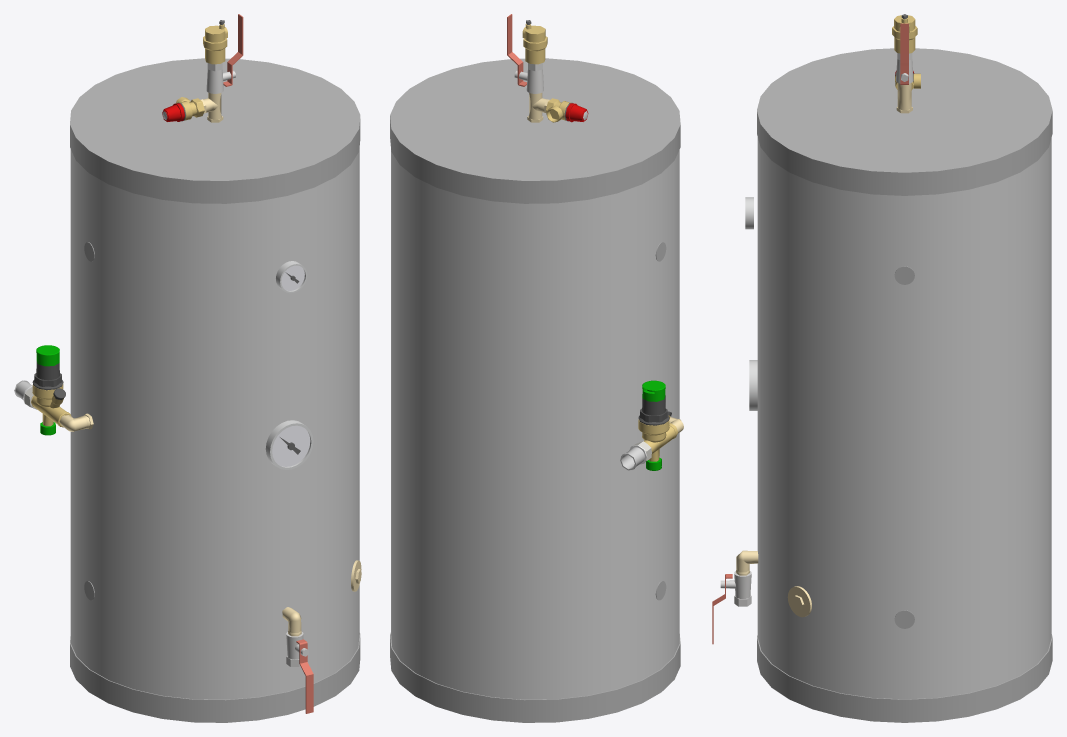
File: inercia.glb
3 renders of one model, left to right at view 1: azimuth 30°, elevation 25°; view 2: azimuth 150°, elevation 25°; view 3: azimuth 270°, elevation 25°, orthographic.
Visible parts, largest first — view 1: DI-GH-DPI_DI_BC_25_300_V-R24 [10537342], VL-Válvula_Llenado_Automatico_MM-R24 [10537478], SN-Termómetro-Posterior-M-R24 [10537470], VL-Válvula_Esfera_Palanca_MH-R24 [10537488], VL-Válvula_Esfera_Palanca_MH-R24 [10537479], AV-Purgador_Automatico_M-R24 [10537480], SN-Manómetro-Posterior-M-R24 [10537471], VL-Válvula_Seguridad_1_2-R24 [10537485]; view 2: DI-GH-DPI_DI_BC_25_300_V-R24 [10537342], VL-Válvula_Llenado_Automatico_MM-R24 [10537478], VL-Válvula_Esfera_Palanca_MH-R24 [10537479], AV-Purgador_Automatico_M-R24 [10537480], VL-Válvula_Seguridad_1_2-R24 [10537485], TR-Racor_Movil_Multicapa-R24 [10537493]; view 3: DI-GH-DPI_DI_BC_25_300_V-R24 [10537342], VL-Válvula_Esfera_Palanca_MH-R24 [10537488], VL-Válvula_Esfera_Palanca_MH-R24 [10537479], AV-Purgador_Automatico_M-R24 [10537480], TP-Tapón_Latón_Rosca_M-R24 [10537472].
Part boxes in pixels (left/top/right/bottom): DI-GH-DPI_DI_BC_25_300_V-R24 [10537342]: left=70, top=58, right=360, bottom=722; VL-Válvula_Llenado_Automatico_MM-R24 [10537478]: left=31, top=345, right=71, bottom=435; SN-Termómetro-Posterior-M-R24 [10537470]: left=265, top=420, right=313, bottom=469; VL-Válvula_Esfera_Palanca_MH-R24 [10537488]: left=286, top=632, right=313, bottom=713; VL-Válvula_Esfera_Palanca_MH-R24 [10537479]: left=206, top=14, right=243, bottom=93; AV-Purgador_Automatico_M-R24 [10537480]: left=203, top=20, right=227, bottom=64; SN-Manómetro-Posterior-M-R24 [10537471]: left=276, top=261, right=307, bottom=293; VL-Válvula_Seguridad_1_2-R24 [10537485]: left=162, top=97, right=204, bottom=121; DI-GH-DPI_DI_BC_25_300_V-R24 [10537342]: left=390, top=58, right=680, bottom=722; VL-Válvula_Llenado_Automatico_MM-R24 [10537478]: left=638, top=380, right=677, bottom=470; VL-Válvula_Esfera_Palanca_MH-R24 [10537479]: left=507, top=14, right=543, bottom=93; AV-Purgador_Automatico_M-R24 [10537480]: left=522, top=20, right=547, bottom=64; VL-Válvula_Seguridad_1_2-R24 [10537485]: left=545, top=98, right=588, bottom=122; TR-Racor_Movil_Multicapa-R24 [10537493]: left=620, top=441, right=651, bottom=470; DI-GH-DPI_DI_BC_25_300_V-R24 [10537342]: left=757, top=48, right=1052, bottom=722; VL-Válvula_Esfera_Palanca_MH-R24 [10537488]: left=712, top=571, right=751, bottom=644; VL-Válvula_Esfera_Palanca_MH-R24 [10537479]: left=896, top=23, right=913, bottom=84; AV-Purgador_Automatico_M-R24 [10537480]: left=892, top=14, right=917, bottom=53; TP-Tapón_Latón_Rosca_M-R24 [10537472]: left=787, top=586, right=811, bottom=617.
Bounding box in the file's own units: 0.5183 × 1.12 × 0.5327.
